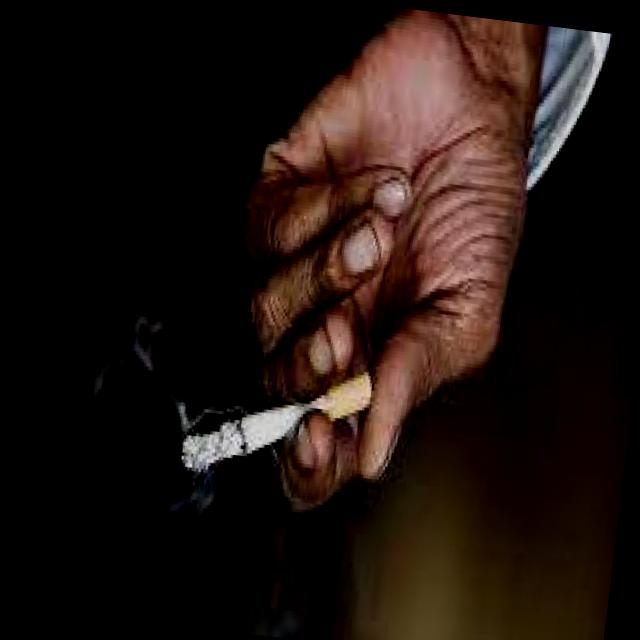smoke: (178, 351, 378, 498)
